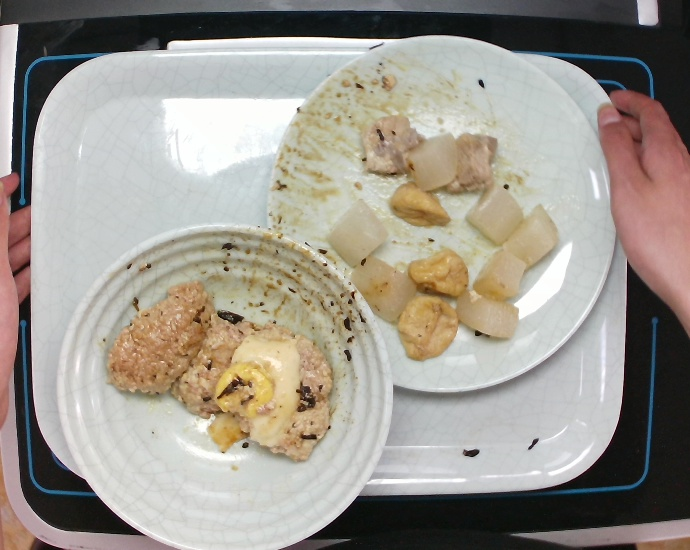JYsf-Da_Tang_Wan: (53, 214, 397, 550)
JYsf-Da_Yuan_Pan: (253, 35, 627, 396)
